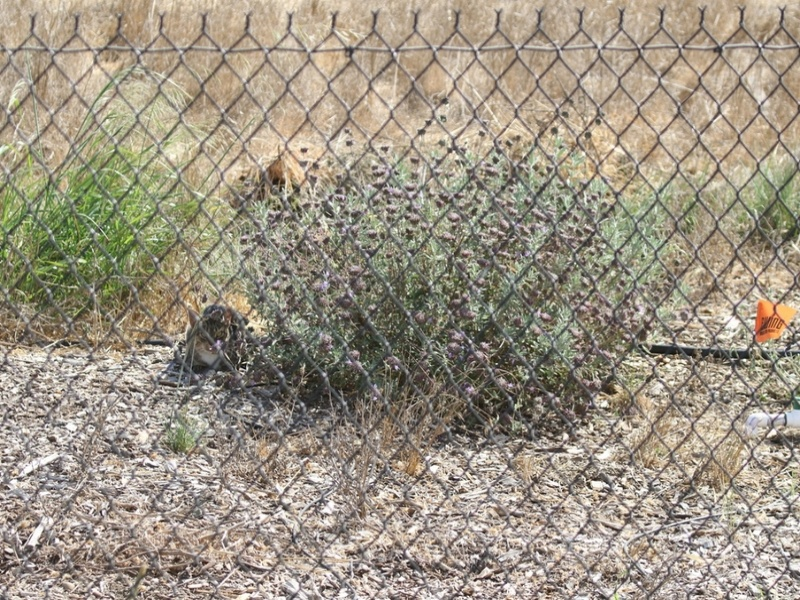cat: (184, 306, 246, 370)
